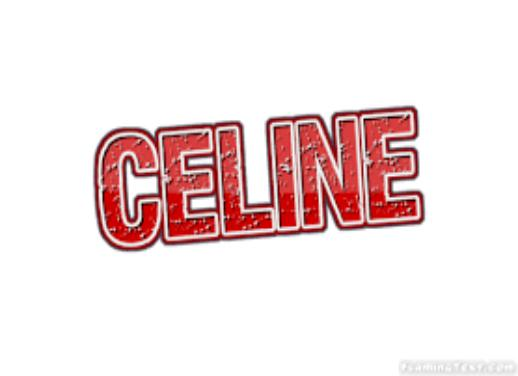CELINE: (81, 105, 432, 245)
